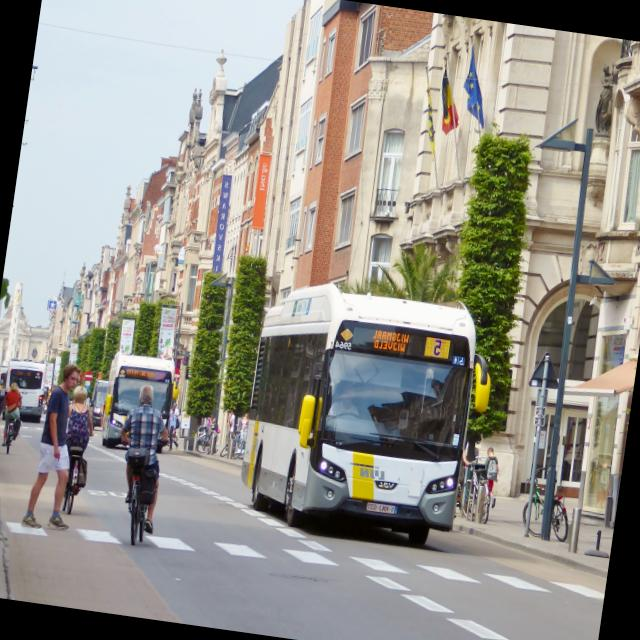bus-number: (424, 337, 450, 359)
